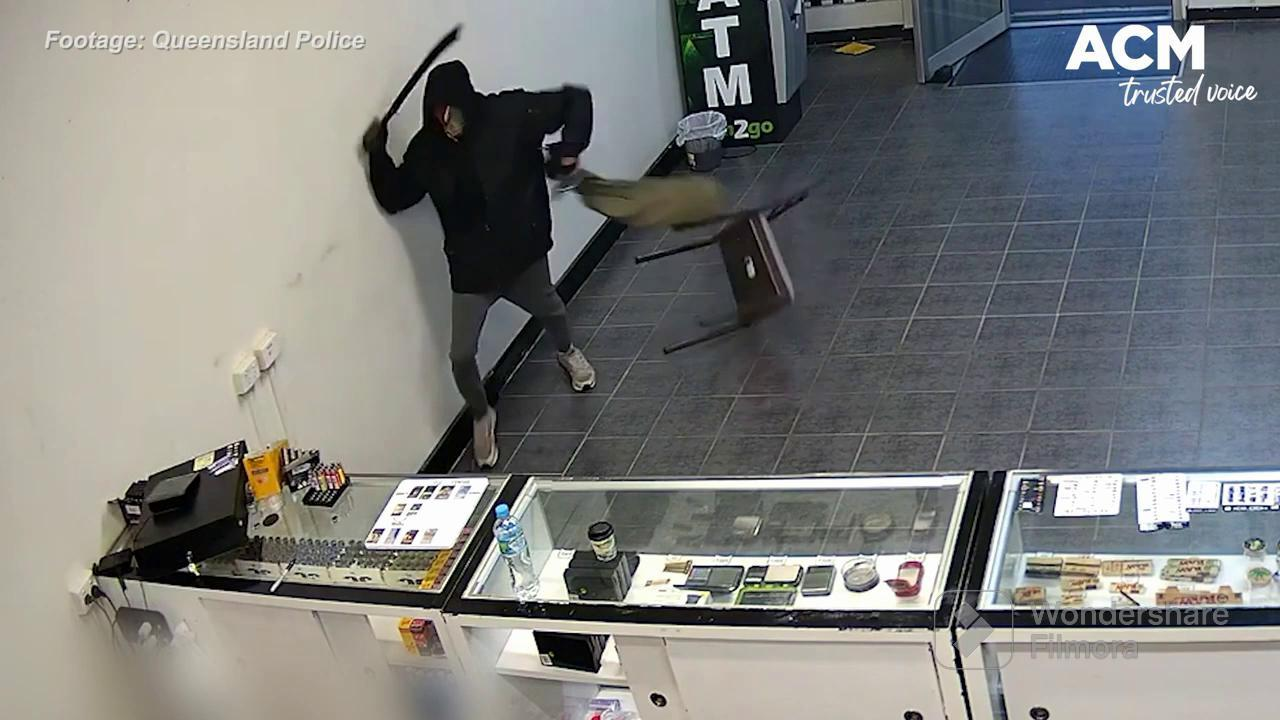melee: (370, 19, 464, 134)
